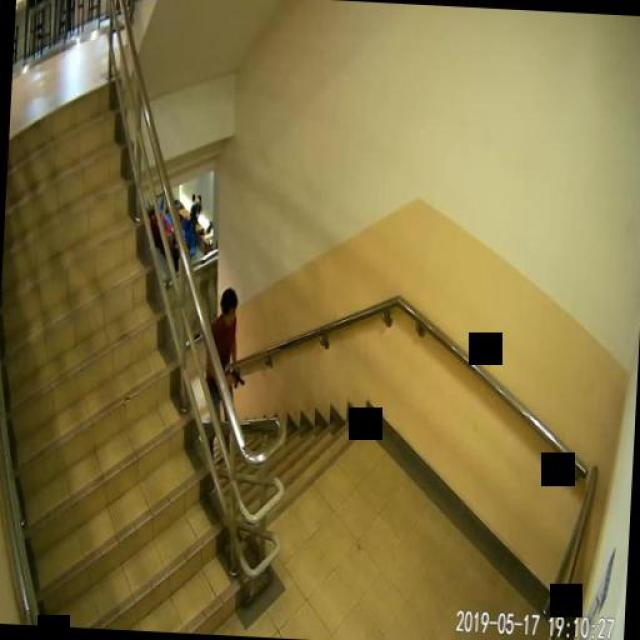gun: (226, 365, 242, 387)
